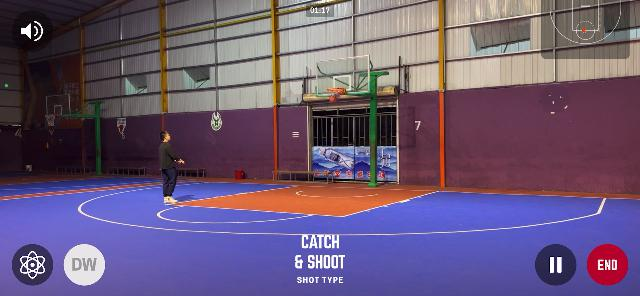basket: (326, 87, 346, 105), (44, 112, 56, 126)
goal: (329, 94, 338, 102)
